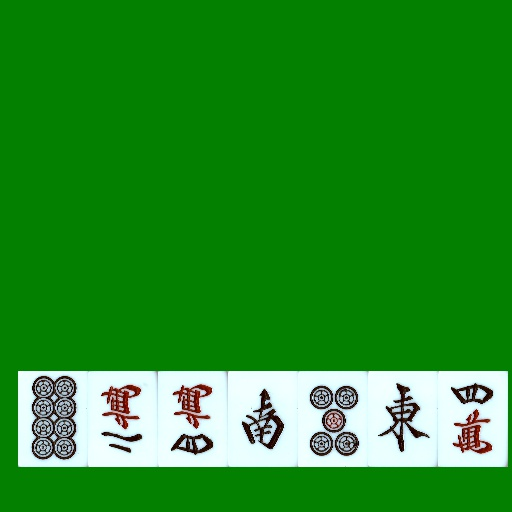2m: (88, 371, 158, 467)
4m: (158, 371, 228, 467), (438, 371, 508, 467)
5p: (298, 371, 368, 467)
8p: (18, 371, 88, 467)
east: (368, 371, 438, 467)
south: (228, 371, 298, 467)
